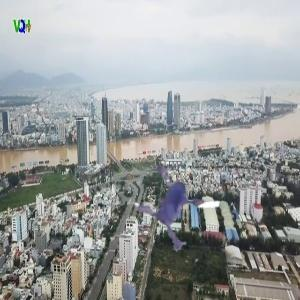drone: (124, 141, 260, 277)
